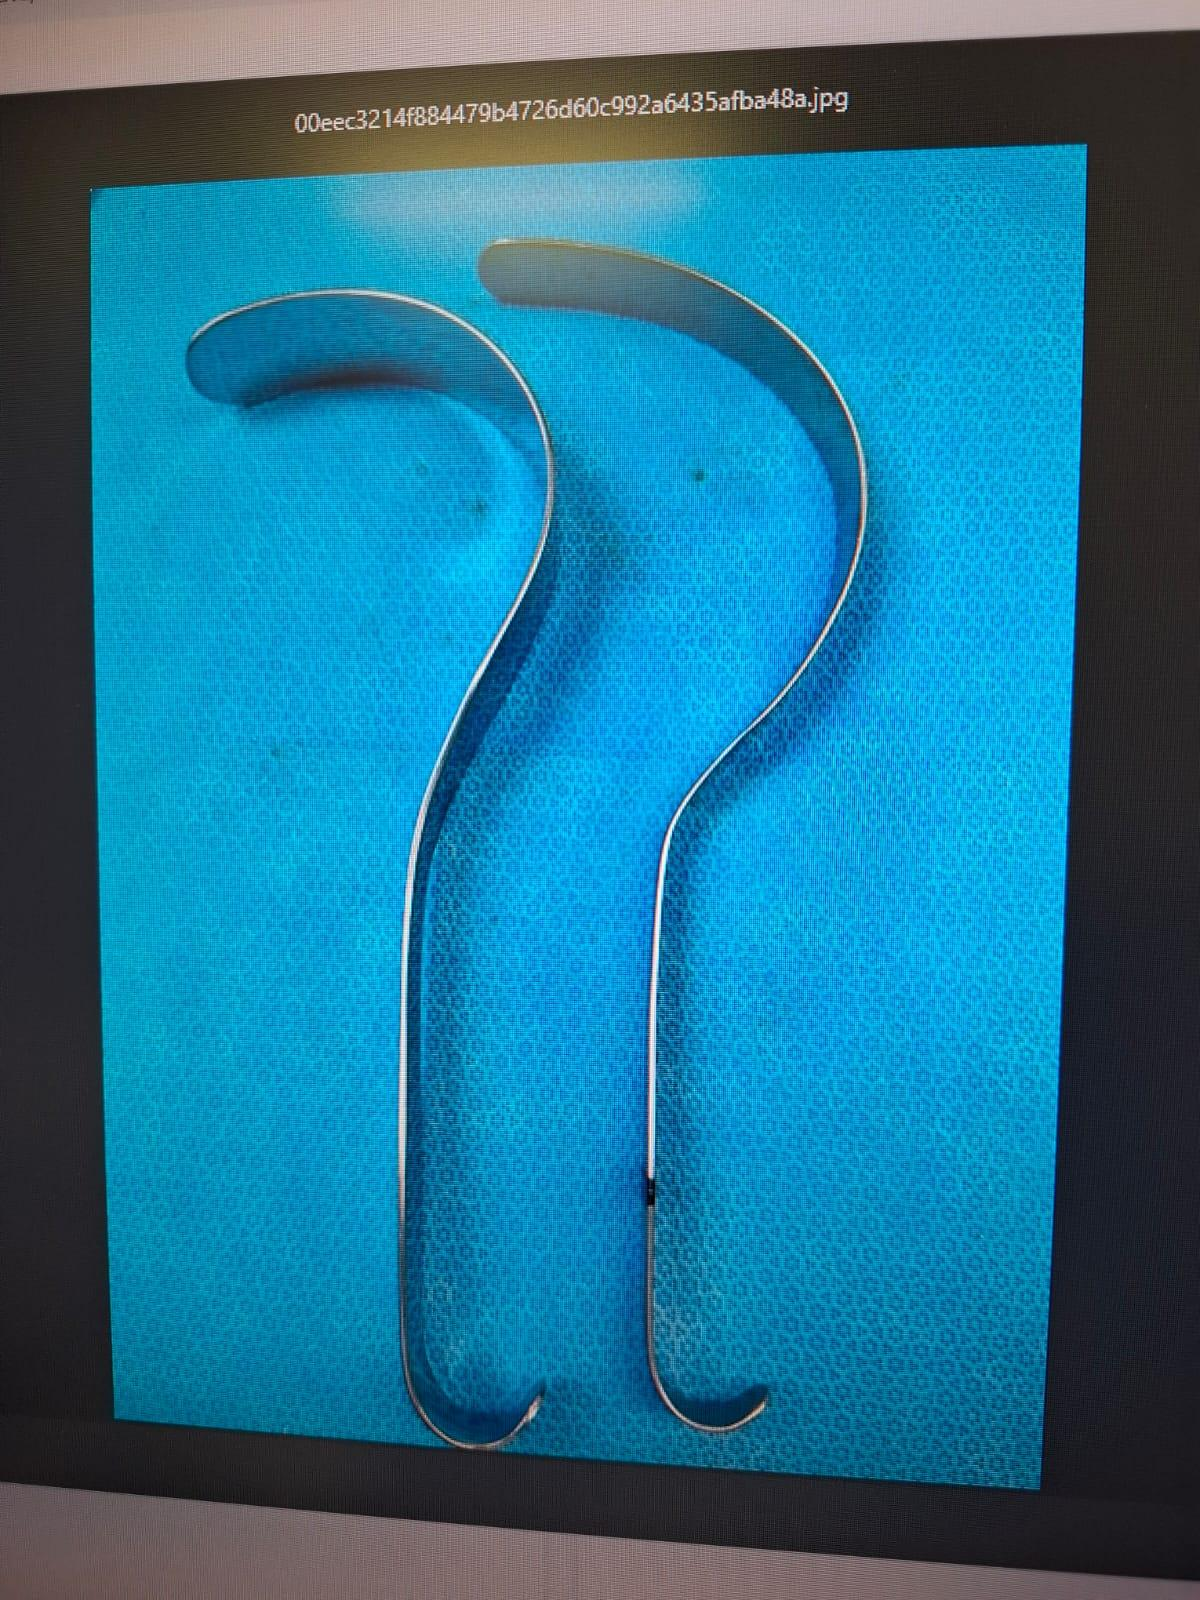Deaver Retractor: (465, 222, 890, 1465), (170, 280, 605, 1452)
